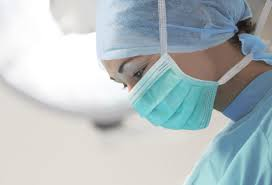mask: (98, 1, 228, 138)
